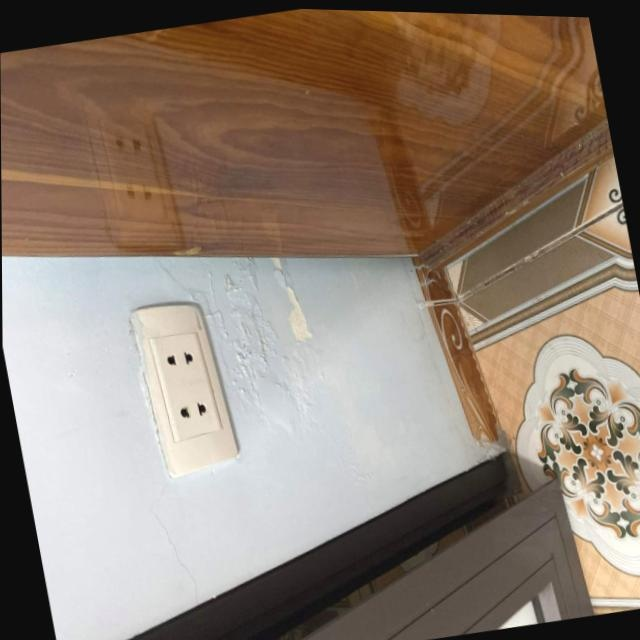outlet: (126, 293, 242, 482)
